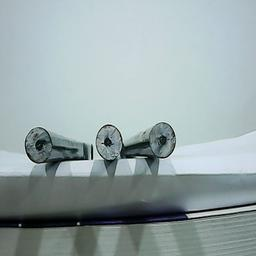pen: (148, 121, 177, 159), (24, 127, 53, 164), (95, 124, 122, 160)
